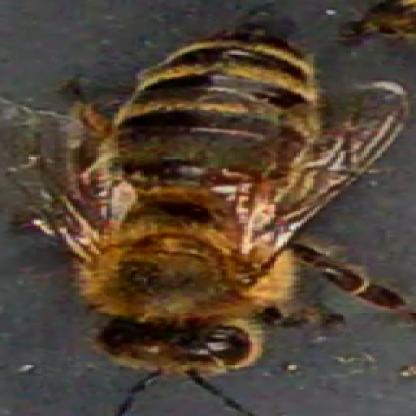bee: (86, 31, 309, 364)
